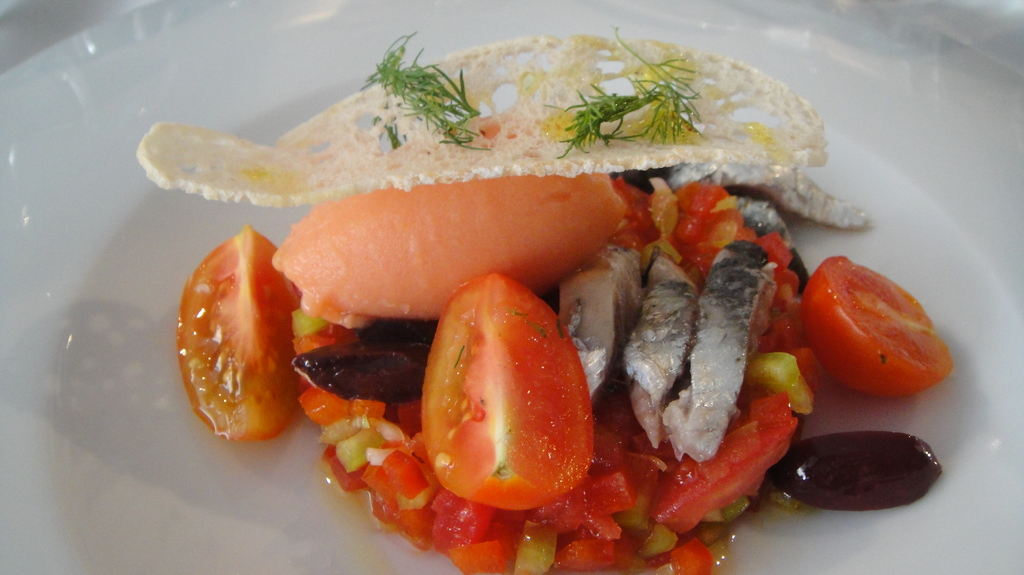Tomato: (325, 399, 791, 574), (419, 269, 592, 507), (175, 221, 302, 432), (791, 257, 944, 402), (650, 392, 796, 527)
